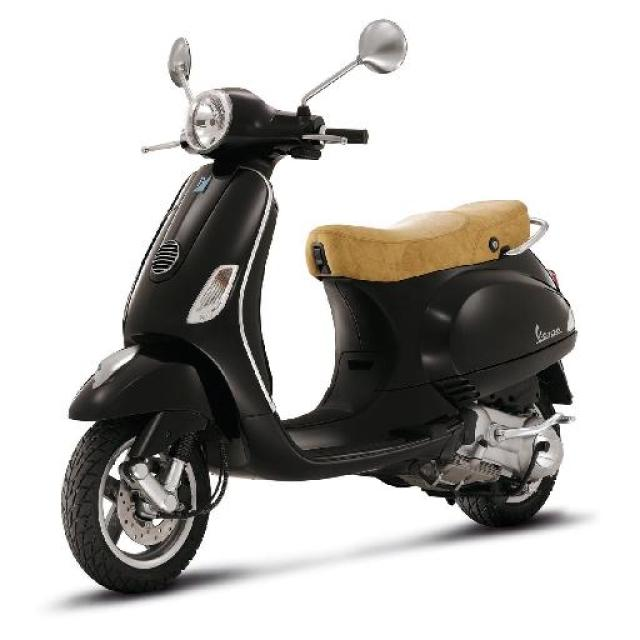All: (56, 76, 580, 595)
Head: (138, 88, 374, 168)
Tail: (478, 192, 556, 281)
